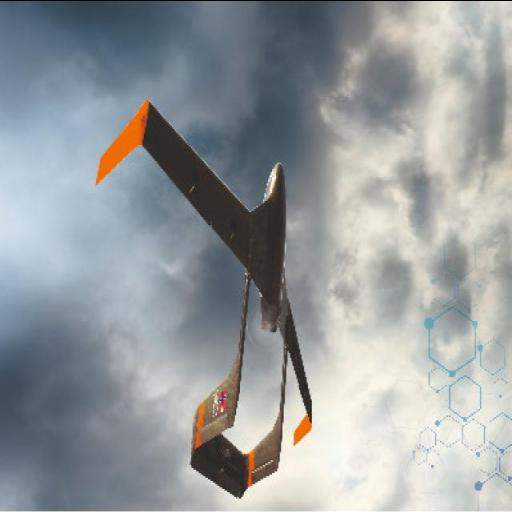uav: (90, 94, 324, 492)
